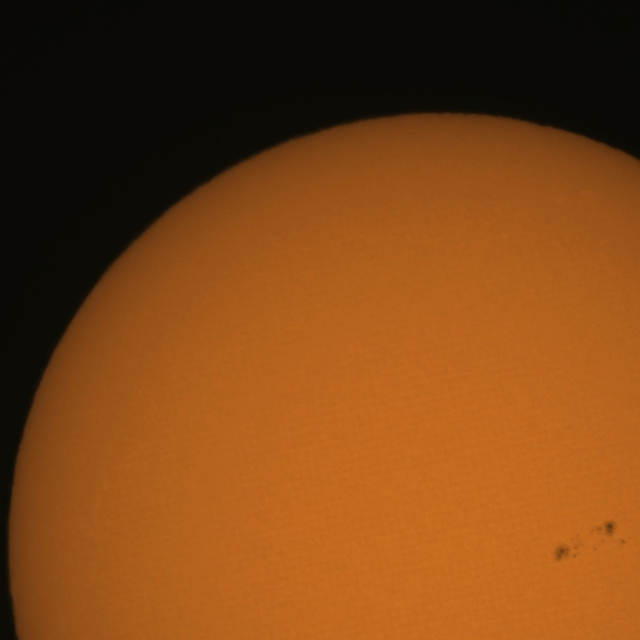sunspot: (553, 521, 622, 560), (590, 520, 620, 554), (552, 532, 582, 563), (620, 538, 627, 546)
